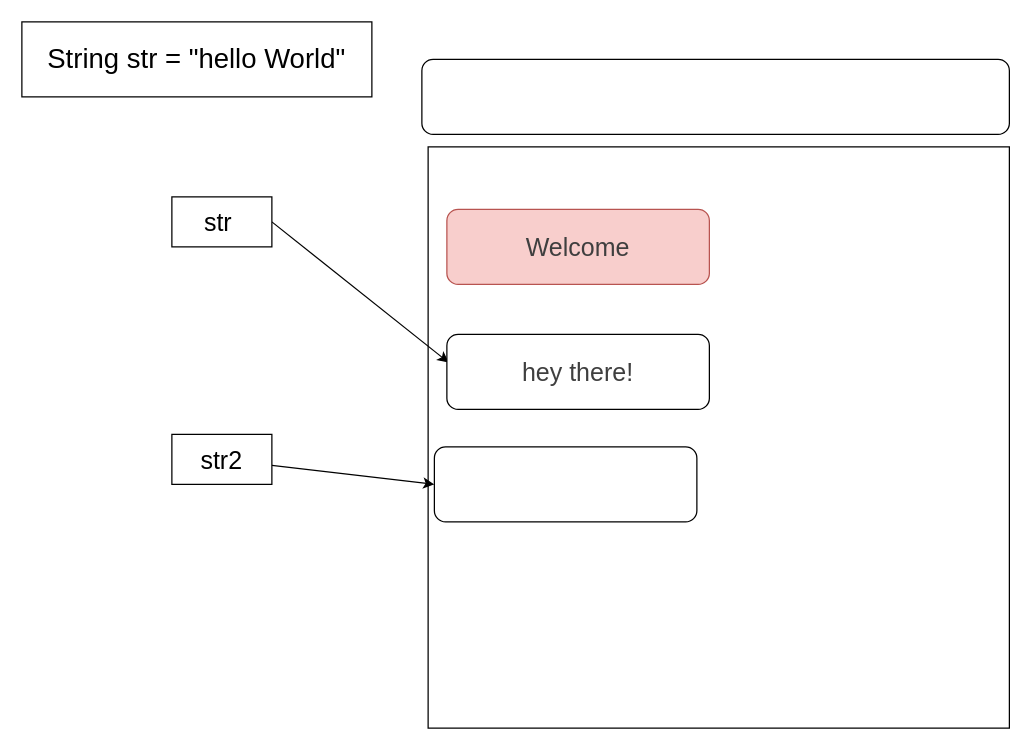
This 1031x750 diagram has some shape labels left out. The box of each missing label's shape, as (x1, y1, x2, y2) in pixels:
Hello hey there!: (433, 446, 697, 522)
String Constant Pool: (421, 58, 1009, 134)
